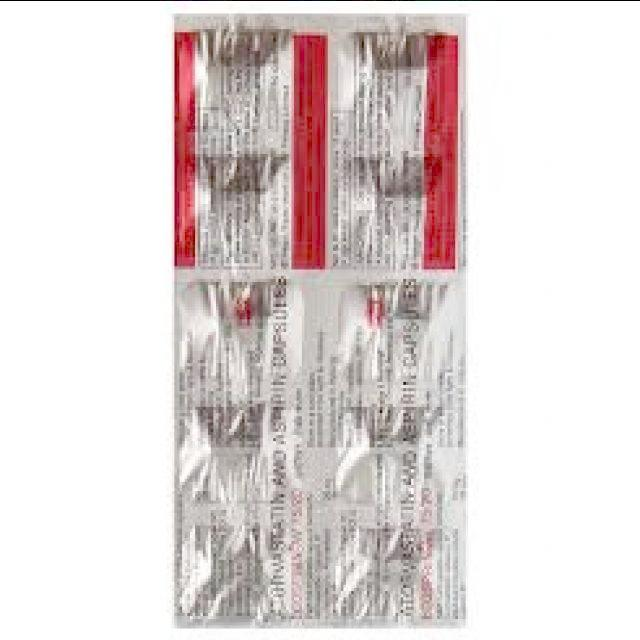authentic: (166, 0, 470, 639)
